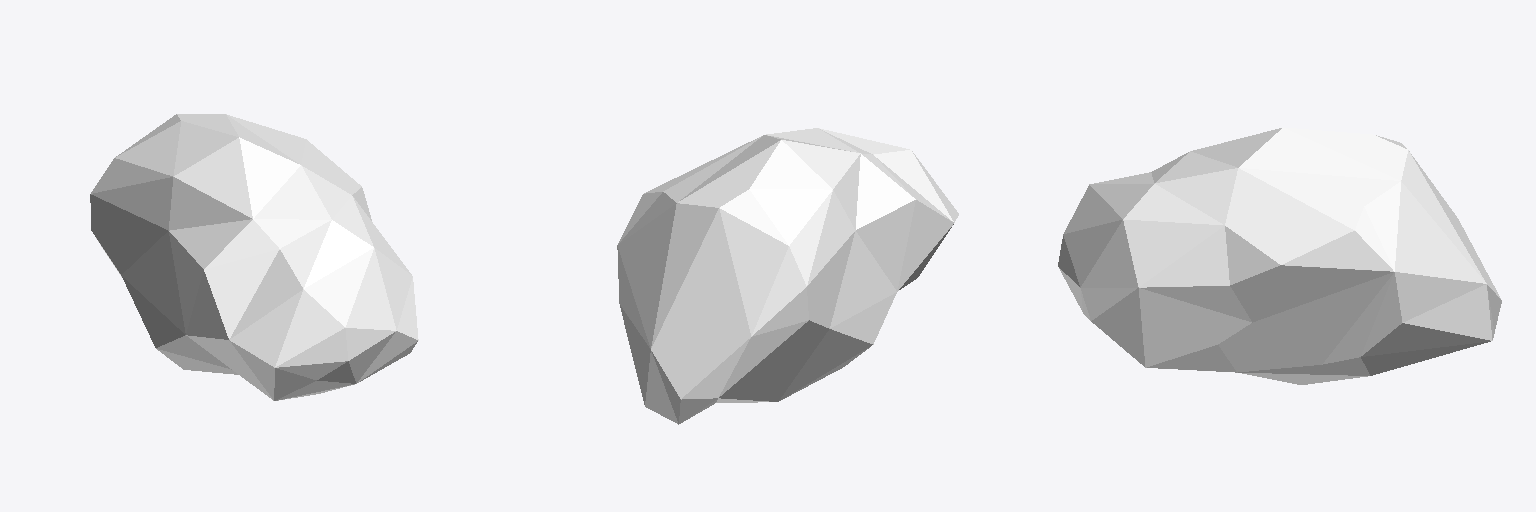
The model's file is rock3.obj.
3 views of the same model, side by side, from view 1: azimuth 30°, elevation 25°; view 2: azimuth 150°, elevation 25°; view 3: azimuth 270°, elevation 25° (orthographic).
Visible parts, largest first — view 1: 0_0; view 2: 0_0; view 3: 0_0.
Boxes of the visible parts, <box> form: 0_0: <box>90,114,418,400</box>; 0_0: <box>617,128,958,424</box>; 0_0: <box>1058,127,1501,384</box>.
Bounding box in the file's own units: 1.35 × 1.47 × 2.44.